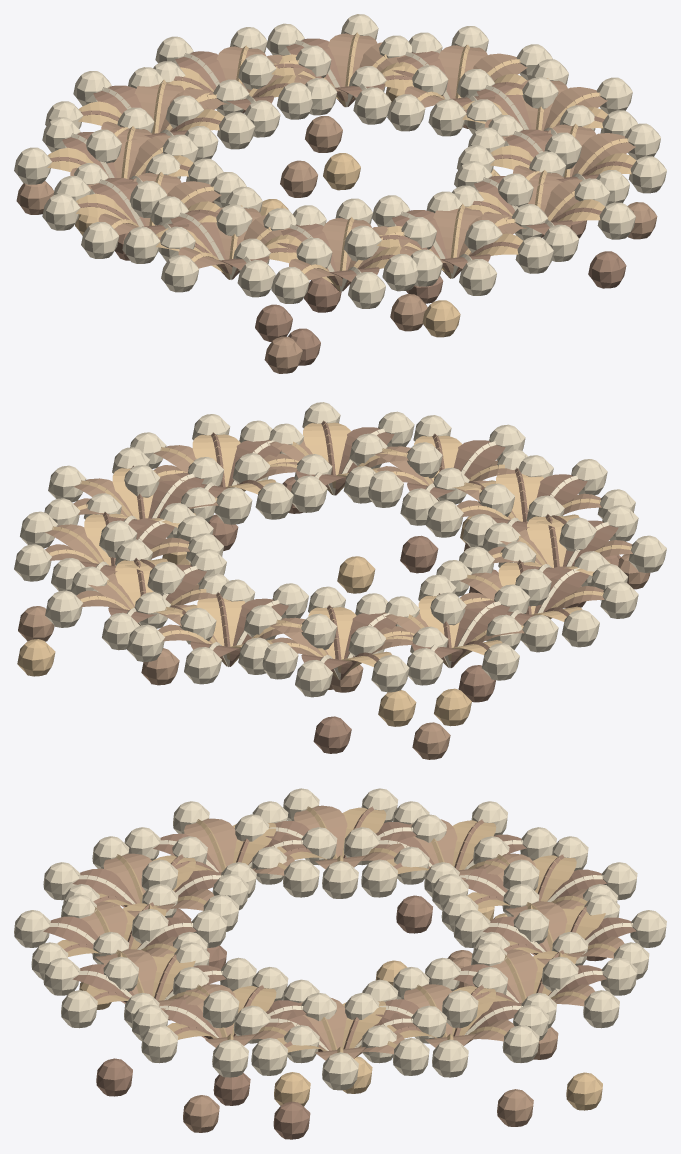
The model's file is spice.glb.
3 views of the same model, one above another, from view 1: azimuth 30°, elevation 25°; view 2: azimuth 150°, elevation 25°; view 3: azimuth 270°, elevation 25° (orthographic).
Parts seen in each view (by area): view 1: spice; view 2: spice; view 3: spice.
Part boxes in pixels (left/top/right/bottom): spice: left=14, top=14, right=666, bottom=373; spice: left=14, top=402, right=666, bottom=759; spice: left=14, top=788, right=666, bottom=1139.
Size of the model in its own units: 1.02 by 0.17 by 1.01.
